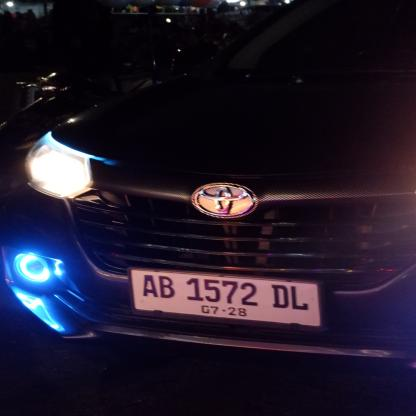Plat-Nomor: (127, 262, 325, 333)
